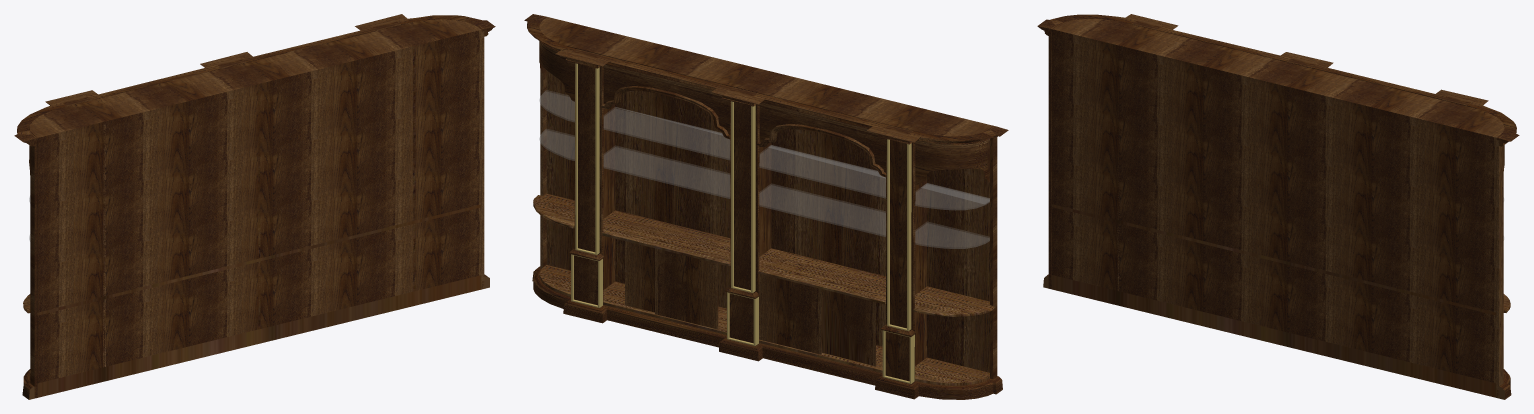
File: Closet bar.FBX
The picture shows the model from 3 angles, left to right: view 1: azimuth 30°, elevation 25°; view 2: azimuth 150°, elevation 25°; view 3: azimuth 330°, elevation 25°; orthographic projection.
Parts seen in each view (by area): view 1: closet bar; view 2: closet bar; view 3: closet bar.
Boxes of the visible parts, x1,y1,x2,y2 form: closet bar: (14,14,495,399); closet bar: (524,14,1008,399); closet bar: (1037,14,1519,399).
Bounding box in the file's own units: 6605 × 871 × 3469.
Materials: 5 (2 with a texture image).
